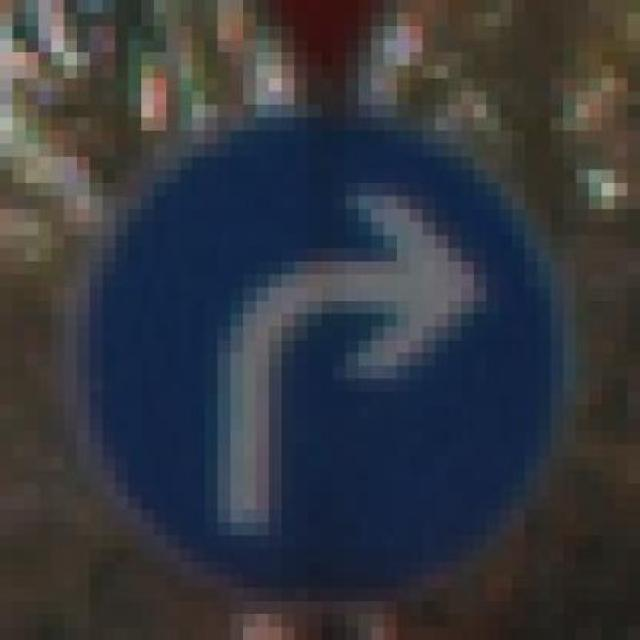Turn right ahead: (76, 91, 576, 614)
